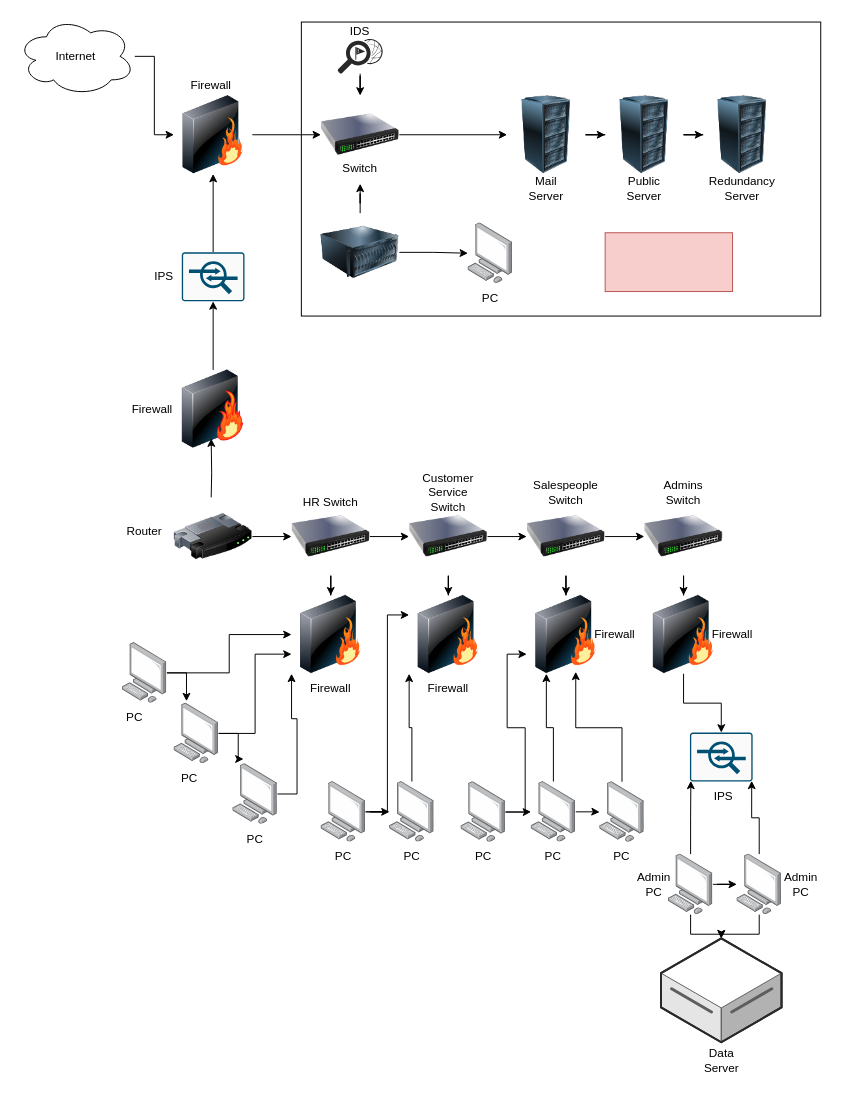
The diagram is 848 pixels wide and 1093 high, and some of its shapes have lost their labels. Here are the shapes that lost their labels. From the top down, the box of each, then its label:
(320, 213, 399, 291): Honeypot
(604, 232, 733, 292): DMZ ZONE
